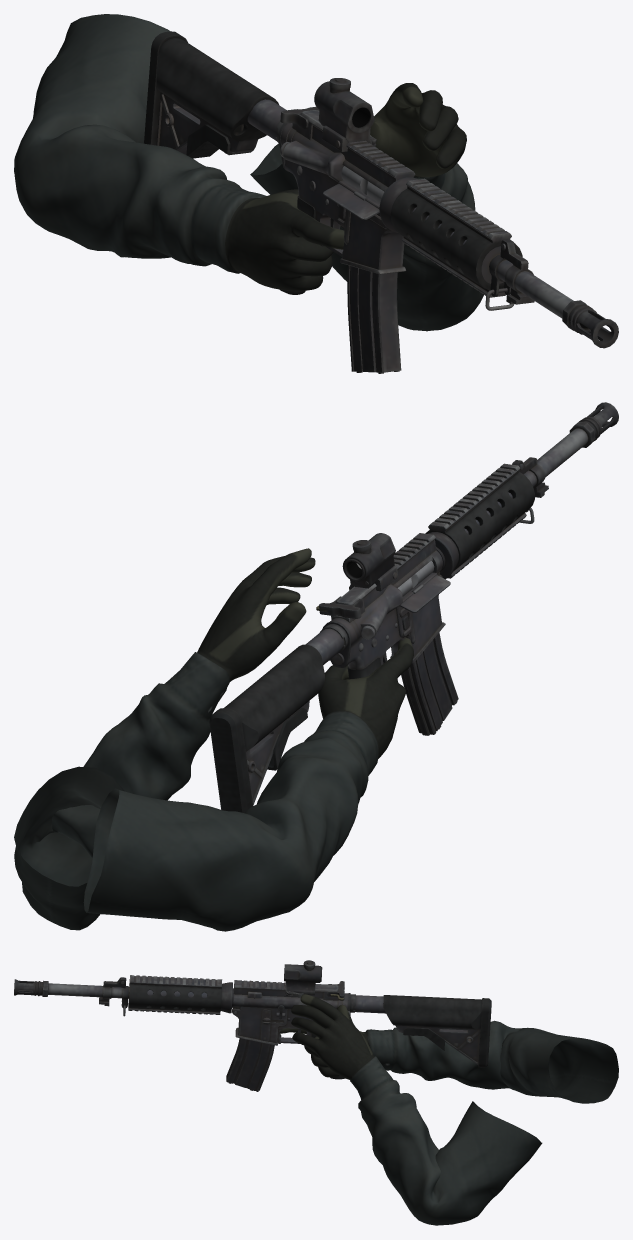
Rendered from carbine_000099.obj.
3 renders of one model, top to bottom at view 1: azimuth 30°, elevation 25°; view 2: azimuth 150°, elevation 25°; view 3: azimuth 270°, elevation 25°, orthographic. The views are drawn at different scales.
Visible parts, largest first — view 1: armmesh_arms_0, base_carbine_0, clip_carbine_0, scope_carbine_0, lid_carbine_0, bolt_carbine_0; view 2: armmesh_arms_0, base_carbine_0, clip_carbine_0, scope_carbine_0, lid_carbine_0; view 3: armmesh_arms_0, base_carbine_0, clip_carbine_0, scope_carbine_0.
Part boxes in pixels (x1,y1,x2,y2): armmesh_arms_0: (14, 14, 484, 331); base_carbine_0: (144, 31, 618, 348); clip_carbine_0: (347, 265, 401, 373); scope_carbine_0: (314, 78, 376, 151); lid_carbine_0: (323, 183, 379, 219); bolt_carbine_0: (341, 166, 383, 203); armmesh_arms_0: (14, 548, 413, 931); base_carbine_0: (209, 402, 618, 812); clip_carbine_0: (401, 632, 458, 735); scope_carbine_0: (342, 533, 398, 591); lid_carbine_0: (400, 575, 450, 612); armmesh_arms_0: (279, 994, 618, 1225); base_carbine_0: (14, 975, 491, 1079); clip_carbine_0: (226, 1038, 274, 1091); scope_carbine_0: (284, 960, 322, 997).
Bounding box in the file's own units: 51.38 × 48.64 × 128.
Materials: 3 (3 with a texture image).
